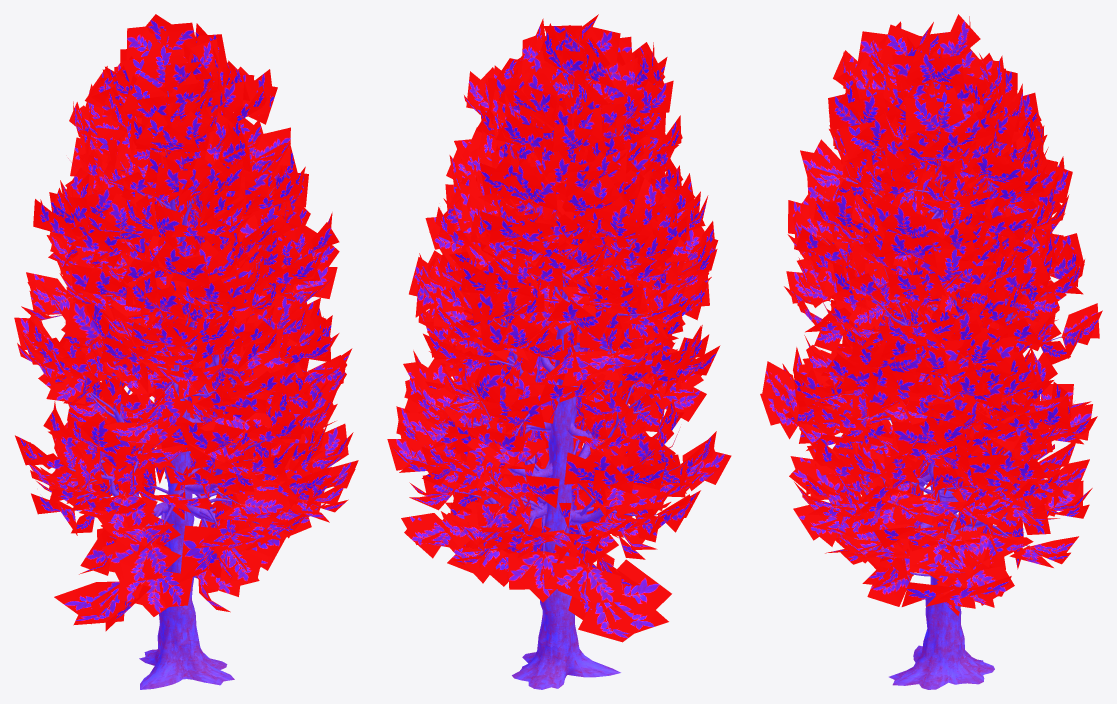
Rendered from SM_Tree.fbx.
3 renders of one model, left to right at view 1: azimuth 30°, elevation 25°; view 2: azimuth 150°, elevation 25°; view 3: azimuth 270°, elevation 25°, orthographic.
Visible parts, largest first — view 1: SM_Tree_LOD0; view 2: SM_Tree_LOD0; view 3: SM_Tree_LOD0.
Part boxes in pixels (left/top/right/bottom): SM_Tree_LOD0: left=14, top=14, right=358, bottom=689; SM_Tree_LOD0: left=387, top=14, right=731, bottom=689; SM_Tree_LOD0: left=760, top=14, right=1102, bottom=689.
Bounding box in the file's own units: 621 × 606 × 1265.
